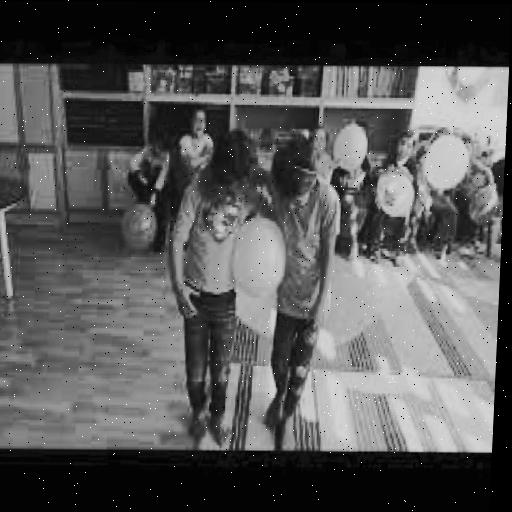balloon: (234, 215, 288, 292), (421, 133, 469, 195), (121, 202, 160, 254), (333, 123, 368, 175), (375, 175, 416, 219)
